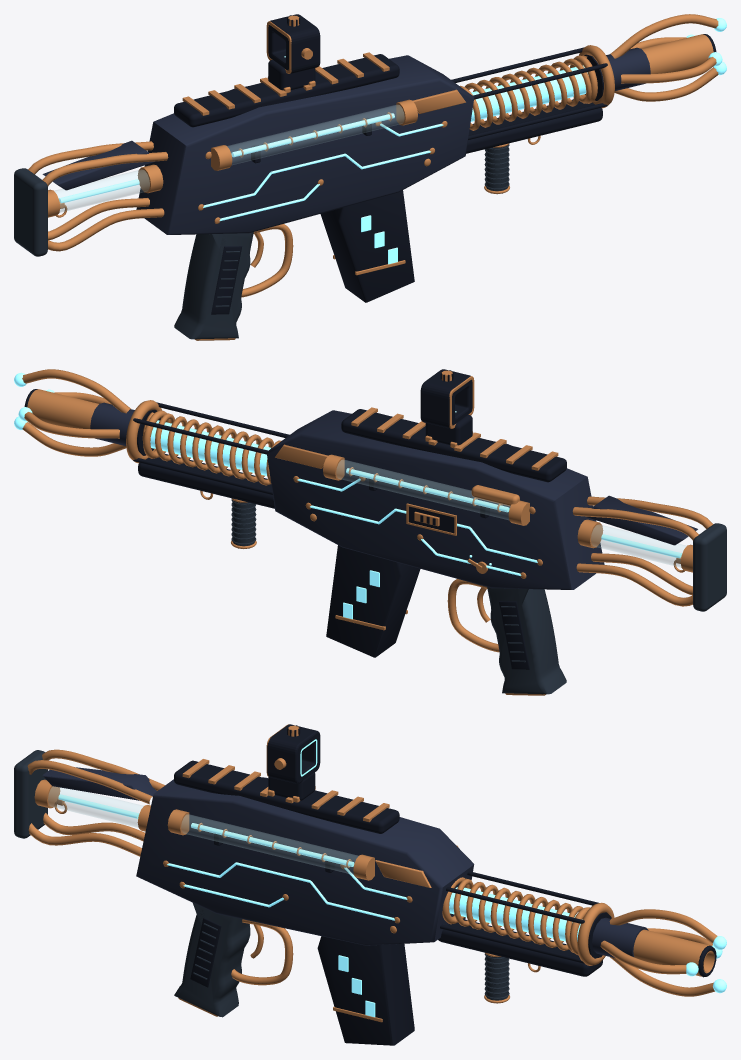
The model's file is stormcoil.glb.
3 views of the same model, one above another, from view 1: azimuth 30°, elevation 25°; view 2: azimuth 150°, elevation 25°; view 3: azimuth 330°, elevation 25° (orthographic).
Parts seen in each view (by area): view 1: 01_Dawn_AR__body_Sculpt_coat, 01_Dawn_AR__body_Sculpt_metal, 01_Dawn_AR__body_Sculpt_frame, 01_Dawn_AR__magazine_Sculpt_frame, 01_Dawn_AR__body_Sculpt_grip, 01_Dawn_AR__stock_Sculpt_metal, 01_Dawn_AR__body_Sculpt_glow, 01_Dawn_AR__coil_Sculpt_metal, 01_Dawn_AR__body_Sculpt_glass, 01_Dawn_AR__optic_Sculpt_frame, 01_Dawn_AR__stock_Sculpt_grip, 01_Dawn_AR__stock_Sculpt_glass (+2 smaller); view 2: 01_Dawn_AR__body_Sculpt_coat, 01_Dawn_AR__body_Sculpt_metal, 01_Dawn_AR__body_Sculpt_frame, 01_Dawn_AR__magazine_Sculpt_frame, 01_Dawn_AR__body_Sculpt_grip, 01_Dawn_AR__stock_Sculpt_metal, 01_Dawn_AR__body_Sculpt_glow, 01_Dawn_AR__coil_Sculpt_metal, 01_Dawn_AR__body_Sculpt_glass, 01_Dawn_AR__optic_Sculpt_frame, 01_Dawn_AR__stock_Sculpt_grip, 01_Dawn_AR__stock_Sculpt_glass (+2 smaller); view 3: 01_Dawn_AR__body_Sculpt_coat, 01_Dawn_AR__body_Sculpt_metal, 01_Dawn_AR__body_Sculpt_frame, 01_Dawn_AR__magazine_Sculpt_frame, 01_Dawn_AR__body_Sculpt_grip, 01_Dawn_AR__stock_Sculpt_metal, 01_Dawn_AR__body_Sculpt_glow, 01_Dawn_AR__coil_Sculpt_metal, 01_Dawn_AR__body_Sculpt_glass, 01_Dawn_AR__optic_Sculpt_frame, 01_Dawn_AR__stock_Sculpt_glass, 01_Dawn_AR__stock_Sculpt_grip (+2 smaller).
Part boxes in pixels (left/top/right/bottom): 01_Dawn_AR__body_Sculpt_coat: left=136, top=47, right=650, bottom=234; 01_Dawn_AR__body_Sculpt_metal: left=182, top=14, right=718, bottom=340; 01_Dawn_AR__body_Sculpt_frame: left=174, top=34, right=716, bottom=314; 01_Dawn_AR__magazine_Sculpt_frame: left=320, top=190, right=414, bottom=302; 01_Dawn_AR__body_Sculpt_grip: left=174, top=144, right=509, bottom=339; 01_Dawn_AR__stock_Sculpt_metal: left=28, top=141, right=168, bottom=251; 01_Dawn_AR__body_Sculpt_glow: left=203, top=18, right=726, bottom=220; 01_Dawn_AR__coil_Sculpt_metal: left=460, top=55, right=597, bottom=130; 01_Dawn_AR__body_Sculpt_glass: left=227, top=105, right=404, bottom=164; 01_Dawn_AR__optic_Sculpt_frame: left=268, top=14, right=320, bottom=90; 01_Dawn_AR__stock_Sculpt_grip: left=14, top=168, right=47, bottom=256; 01_Dawn_AR__stock_Sculpt_glass: left=54, top=169, right=149, bottom=212; 01_Dawn_AR__body_Sculpt_coat: left=90, top=402, right=604, bottom=589; 01_Dawn_AR__body_Sculpt_metal: left=22, top=369, right=558, bottom=695; 01_Dawn_AR__body_Sculpt_frame: left=24, top=389, right=566, bottom=669; 01_Dawn_AR__magazine_Sculpt_frame: left=326, top=545, right=420, bottom=657; 01_Dawn_AR__body_Sculpt_grip: left=231, top=499, right=566, bottom=694; 01_Dawn_AR__stock_Sculpt_metal: left=572, top=496, right=713, bottom=606; 01_Dawn_AR__body_Sculpt_glow: left=14, top=372, right=537, bottom=575; 01_Dawn_AR__coil_Sculpt_metal: left=142, top=410, right=280, bottom=485; 01_Dawn_AR__body_Sculpt_glass: left=336, top=460, right=510, bottom=519; 01_Dawn_AR__optic_Sculpt_frame: left=420, top=369, right=472, bottom=445; 01_Dawn_AR__stock_Sculpt_grip: left=693, top=523, right=726, bottom=611; 01_Dawn_AR__stock_Sculpt_glass: left=591, top=524, right=686, bottom=567; 01_Dawn_AR__body_Sculpt_coat: left=136, top=777, right=648, bottom=957; 01_Dawn_AR__body_Sculpt_metal: left=163, top=759, right=717, bottom=1016; 01_Dawn_AR__body_Sculpt_frame: left=174, top=760, right=716, bottom=987; 01_Dawn_AR__magazine_Sculpt_frame: left=317, top=936, right=414, bottom=1045; 01_Dawn_AR__body_Sculpt_grip: left=174, top=903, right=509, bottom=1017; 01_Dawn_AR__stock_Sculpt_metal: left=27, top=749, right=165, bottom=856; 01_Dawn_AR__body_Sculpt_glow: left=167, top=823, right=726, bottom=993; 01_Dawn_AR__coil_Sculpt_metal: left=442, top=877, right=589, bottom=955; 01_Dawn_AR__body_Sculpt_glass: left=181, top=814, right=357, bottom=874; 01_Dawn_AR__optic_Sculpt_frame: left=267, top=724, right=320, bottom=800; 01_Dawn_AR__stock_Sculpt_glass: left=48, top=786, right=143, bottom=827; 01_Dawn_AR__stock_Sculpt_grip: left=14, top=750, right=47, bottom=838.
Size of the model in its own units: 3.4 by 1.39 by 0.44.
